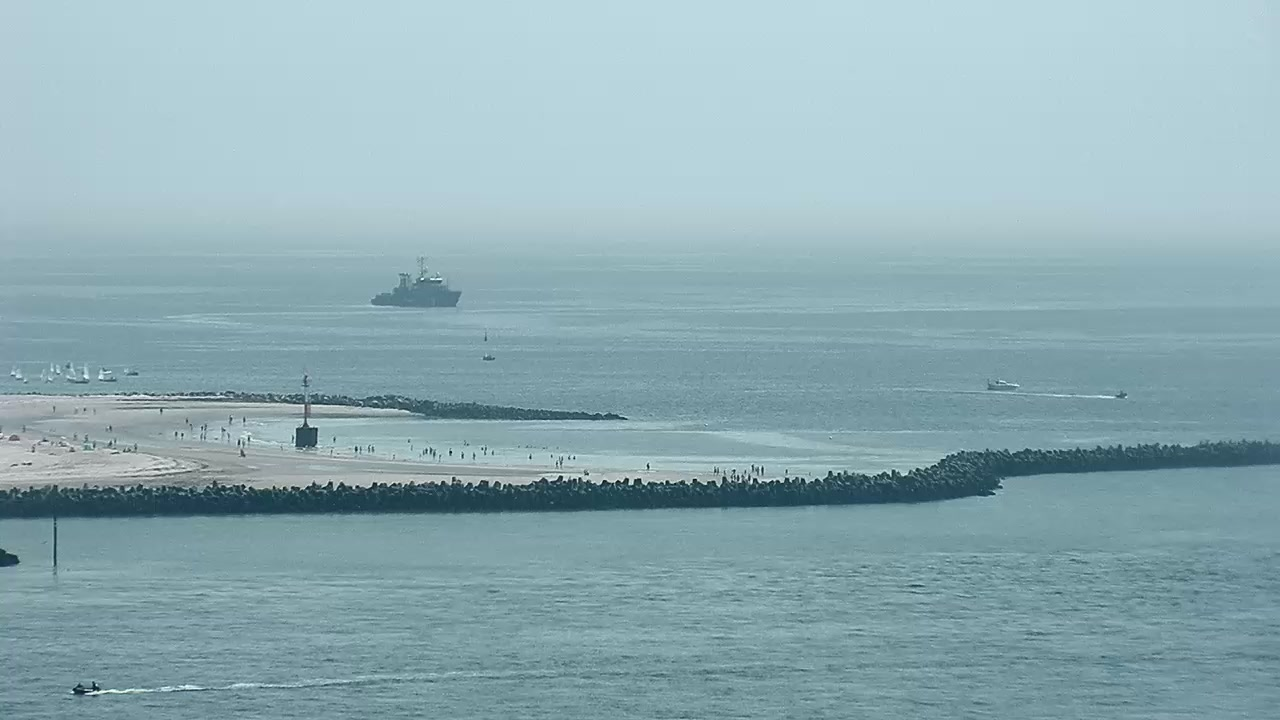human: (73, 430, 78, 441), (84, 432, 89, 443), (92, 438, 97, 449), (133, 442, 138, 452), (228, 414, 233, 424), (432, 448, 437, 458), (760, 465, 765, 475), (756, 466, 761, 476), (174, 430, 179, 439), (241, 439, 246, 448), (236, 438, 241, 447), (242, 415, 247, 424), (226, 431, 231, 440), (203, 423, 208, 432), (332, 435, 337, 444), (460, 450, 465, 459), (471, 451, 476, 460), (554, 459, 559, 468), (558, 459, 563, 468), (200, 424, 204, 433), (717, 466, 721, 475), (713, 465, 717, 474), (181, 432, 185, 440), (159, 407, 163, 415), (108, 424, 112, 432), (359, 445, 363, 453), (367, 443, 371, 451), (371, 444, 375, 452), (751, 463, 755, 471), (646, 462, 650, 470), (105, 425, 109, 432), (354, 445, 358, 452), (448, 448, 452, 455), (429, 447, 433, 454), (424, 447, 428, 454)
sea: (369, 255, 463, 308), (986, 377, 1022, 392), (71, 680, 103, 696), (72, 364, 90, 383), (65, 361, 78, 380), (98, 374, 117, 383), (1114, 389, 1129, 399), (97, 366, 113, 375), (124, 368, 140, 377), (481, 352, 496, 361), (48, 361, 55, 374), (54, 362, 61, 375), (9, 368, 16, 376), (16, 371, 23, 379)
